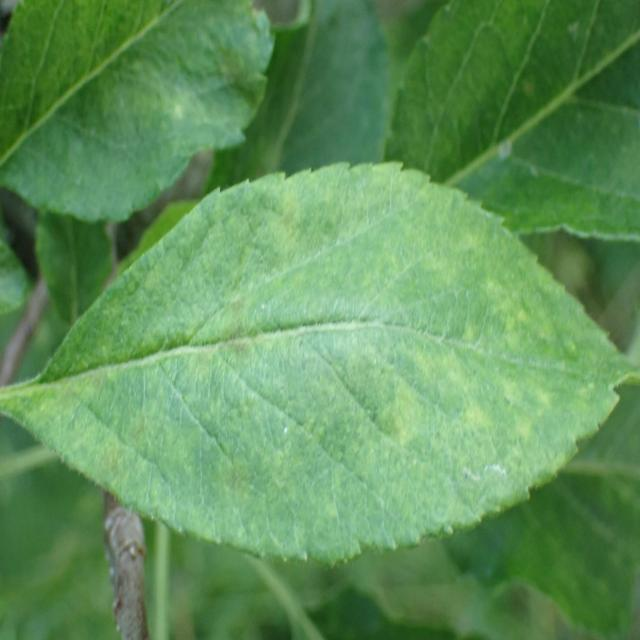scab: (31, 188, 625, 524)
